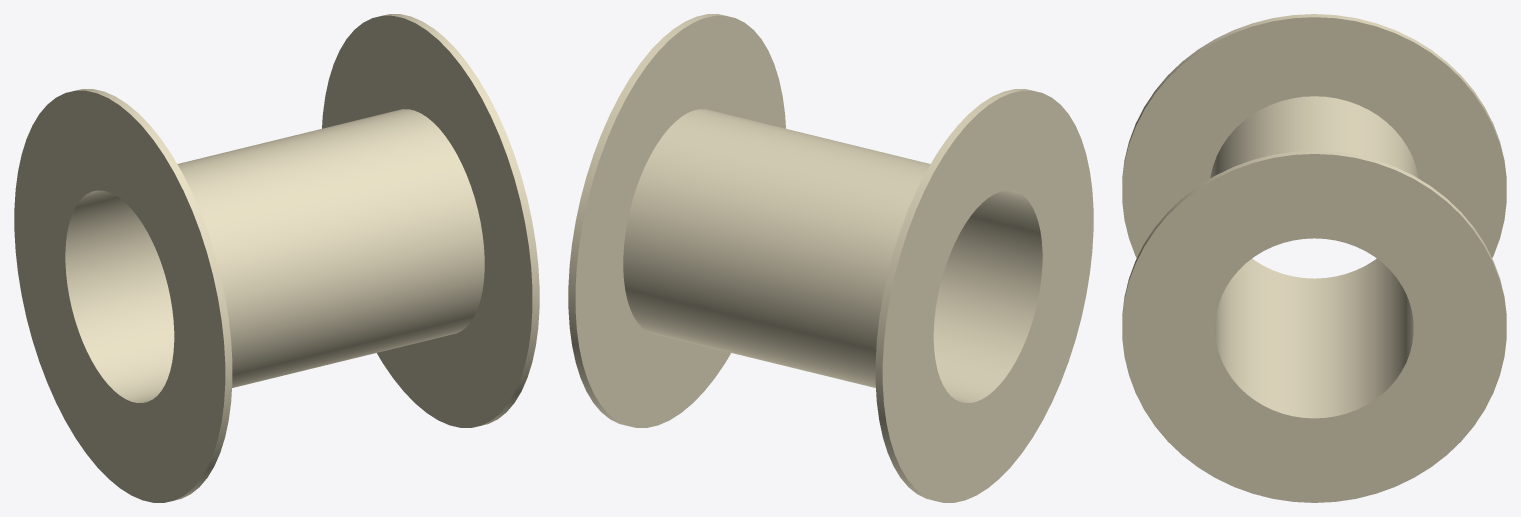
The model's file is ignition-coil-bobbin.glb.
3 views of the same model, side by side, from view 1: azimuth 30°, elevation 25°; view 2: azimuth 150°, elevation 25°; view 3: azimuth 270°, elevation 25° (orthographic). The views are drawn at different scales.
Visible parts, largest first — view 1: world; view 2: world; view 3: world.
Boxes of the visible parts, bbox=[...] form: world: bbox=[14, 14, 539, 502]; world: bbox=[568, 14, 1093, 502]; world: bbox=[1122, 14, 1506, 502].
Bounding box in the file's own units: 0.044 × 0.0512 × 0.0511.
